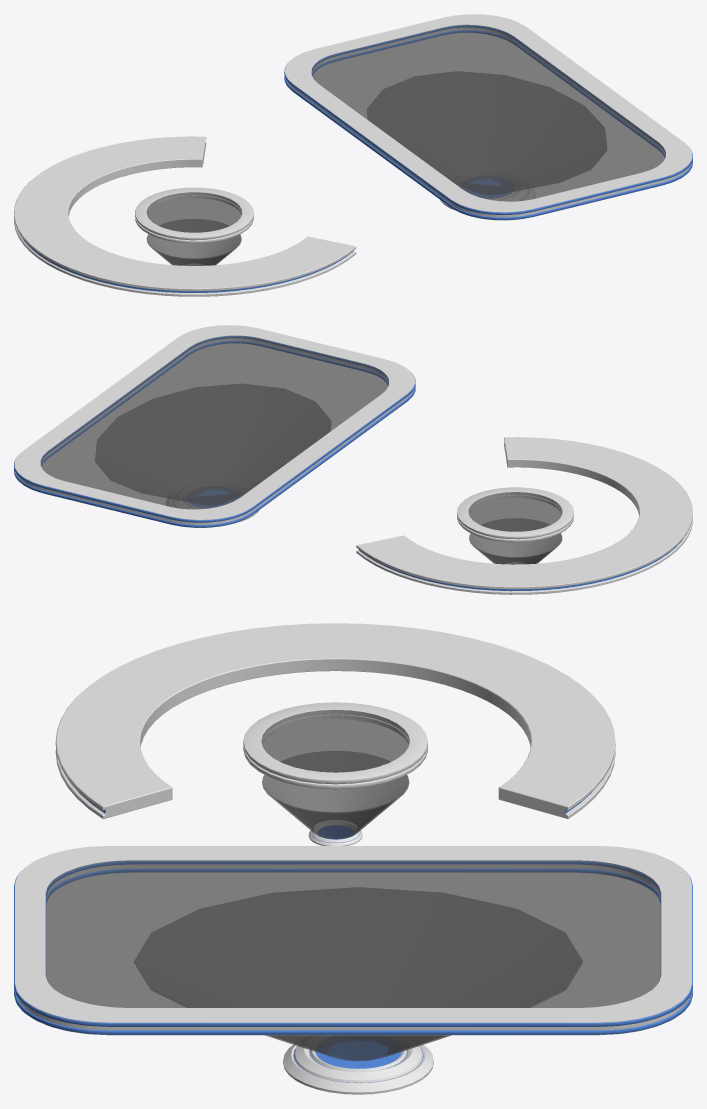
The model's file is Table.fbx.
The picture shows the model from 3 angles, top to bottom: view 1: azimuth 30°, elevation 25°; view 2: azimuth 150°, elevation 25°; view 3: azimuth 270°, elevation 25°; orthographic projection. The views are drawn at different scales.
Parts seen in each view (by area): view 1: SM_Table_big_glass, SM_Table_big_emis, SM_Table_Midle, SM_Table_big, SM_Table_small_glass, SM_Table_small, SM_Table_small_emis, SM_Table_big_circle; view 2: SM_Table_big_glass, SM_Table_big_emis, SM_Table_Midle, SM_Table_big, SM_Table_small_glass, SM_Table_small, SM_Table_small_emis, SM_Table_big_circle; view 3: SM_Table_big_glass, SM_Table_big_emis, SM_Table_big, SM_Table_Midle, SM_Table_small_glass, SM_Table_small, SM_Table_small_emis, SM_Table_big_circle, SM_Table_small_cicle.
Boxes of the visible parts, x1,y1,x2,y2 form: SM_Table_big_glass: [311, 24, 665, 201]; SM_Table_big_emis: [367, 72, 606, 194]; SM_Table_Midle: [14, 136, 356, 296]; SM_Table_big: [284, 14, 692, 220]; SM_Table_small_glass: [146, 192, 242, 232]; SM_Table_small: [135, 187, 253, 243]; SM_Table_small_emis: [146, 219, 241, 265]; SM_Table_big_circle: [440, 179, 535, 210]; SM_Table_big_glass: [40, 335, 388, 509]; SM_Table_big_emis: [95, 384, 330, 505]; SM_Table_Midle: [356, 437, 692, 594]; SM_Table_big: [14, 325, 415, 527]; SM_Table_small_glass: [468, 492, 562, 531]; SM_Table_small: [457, 487, 573, 542]; SM_Table_small_emis: [469, 519, 562, 564]; SM_Table_big_circle: [166, 490, 259, 522]; SM_Table_big_glass: [45, 860, 661, 1007]; SM_Table_big_emis: [134, 887, 582, 1061]; SM_Table_big: [14, 846, 692, 1035]; SM_Table_Midle: [55, 623, 615, 819]; SM_Table_small_glass: [261, 709, 409, 772]; SM_Table_small: [243, 702, 427, 789]; SM_Table_small_emis: [262, 751, 409, 839]; SM_Table_big_circle: [283, 1040, 433, 1094]; SM_Table_small_cicle: [308, 821, 362, 845].
Size of the model in its own units: 733 by 101 by 485.
